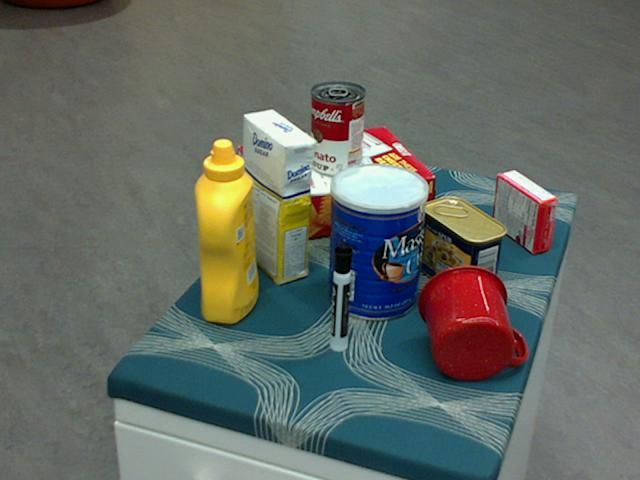cracker_box: (237, 126, 434, 247)
gelatin_box: (493, 170, 558, 254)
large_marker: (330, 243, 351, 353)
master_chef_can: (329, 163, 428, 321)
mug: (418, 263, 525, 380)
mustard_bottle: (194, 140, 259, 324)
potted_meat_can: (421, 197, 507, 300)
sugar_box: (242, 110, 314, 286)
tomato_soup_can: (310, 82, 365, 178)
tuna_fish_can: (354, 170, 426, 242)
